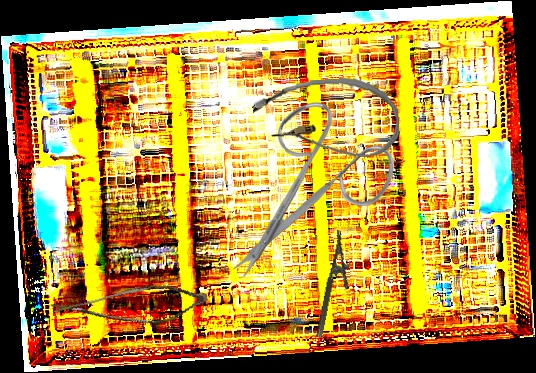Cannula: (250, 74, 402, 165)
Iris Scissors: (230, 100, 396, 284)
Micro Scissor: (47, 264, 211, 351)
Needle Holder: (314, 229, 360, 342)
